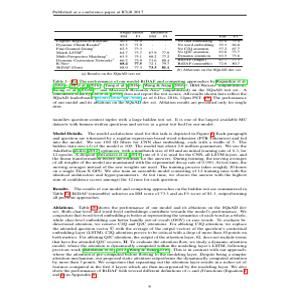table: (51, 27, 171, 79), (174, 29, 245, 75)
text: (51, 80, 252, 283)
